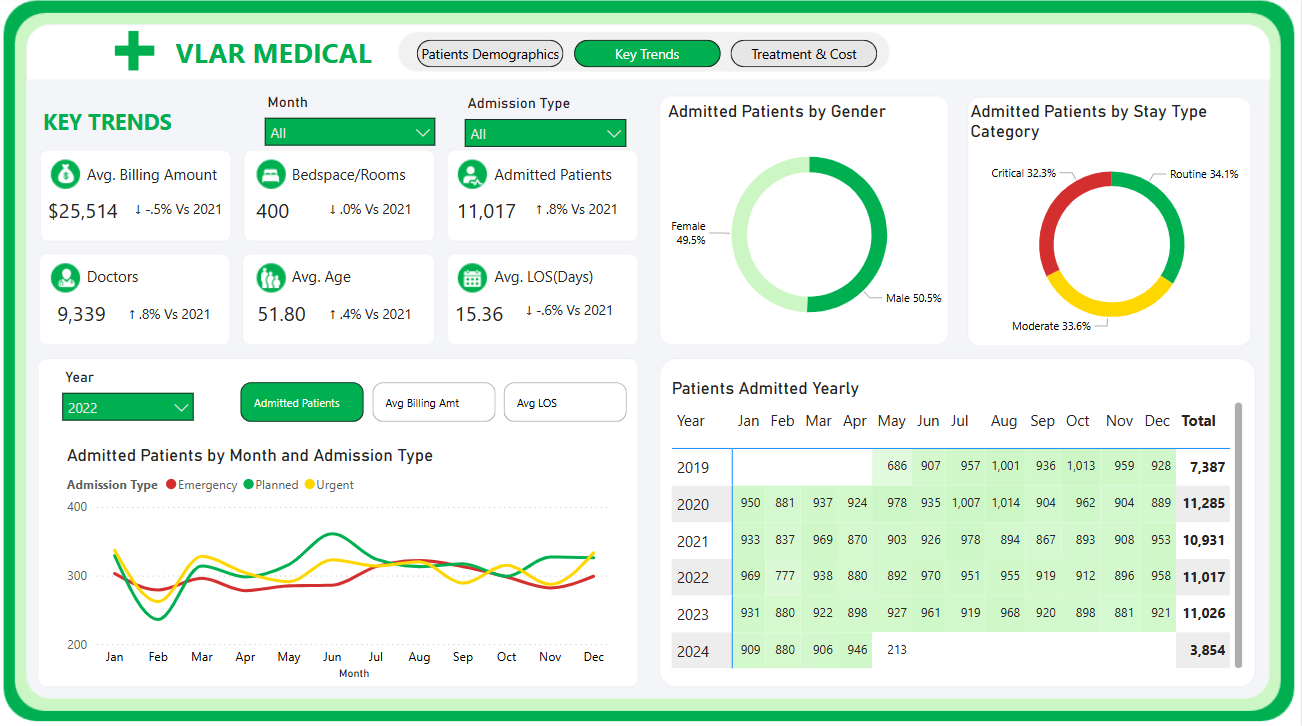

The page's visual inventory and layout, read from the dashboard file:
{"tool":"powerbi","page":{"name":"Key Trends","canvas":[1280,720],"ordinal":1},"visuals":[{"type":"card","fields":{"Values":["DAX.Admitted Patients"]},"box":[434.9,197.7,90.7,26.7],"z":0},{"type":"textbox","box":[482.7,159.3,135.8,30.9],"z":1000},{"type":"textbox","box":[283.7,260.5,122.1,30.2],"z":2000},{"type":"textbox","box":[82.6,260.5,131.4,30.2],"z":3000},{"type":"textbox","box":[284,159.3,132.1,30.9],"z":4000},{"type":"textbox","box":[82.6,159.3,150,30.2],"z":5000},{"type":"textbox","box":[482.6,260.5,140.7,30.2],"z":6000},{"type":"card","fields":{"Values":["DAX.Avg LOS"]},"box":[426.7,300,90.7,26.7],"z":7000},{"type":"card","fields":{"Values":["DAX.Rooms"]},"box":[224.4,197.7,90.7,26.7],"z":8000},{"type":"card","fields":{"Values":["DAX.Average Age"]},"box":[232.6,300,90.7,26.7],"z":9000},{"type":"card","fields":{"Values":["DAX.Doctors"]},"box":[37.2,300,90.7,26.7],"z":10000},{"type":"card","fields":{"Values":["DAX.Avg Billing Amt"]},"box":[8.1,197.7,150,26.7],"z":11000},{"type":"card","fields":{"Values":["DAX.Room YoY"]},"box":[315.1,195.3,101.2,32.6],"z":12000},{"type":"card","fields":{"Values":["DAX.LOS YoY"]},"box":[502.5,295.1,116,32.1],"z":13000},{"type":"card","fields":{"Values":["DAX.Age YoY"]},"box":[315.1,297.7,101.2,32.6],"z":14000},{"type":"card","fields":{"Values":["DAX.Doc YoY"]},"box":[112.8,297.7,111.6,32.6],"z":15000},{"type":"card","fields":{"Values":["DAX.Bill YoY"]},"box":[123.3,195.3,109.3,32.6],"z":16000},{"type":"card","fields":{"Values":["DAX.Adm YoY"]},"box":[517.4,195.3,101.2,32.6],"z":17000},{"type":"slicer","fields":{"Values":["Calendar.Year"]},"box":[53.1,360.5,149.4,63],"z":18000},{"type":"slicer","fields":{"Values":["Calendar.Month"]},"box":[251.5,90.8,187.7,63.8],"z":19000},{"type":"advancedSlicerVisual","fields":{"Values":["KPI.KPI"]},"box":[233.1,374.2,390.2,49.1],"z":20000},{"type":"lineChart","fields":{"Y":["DAX.Admitted Patients"],"Category":["Calendar.Month"],"Series":["Vlar Health.Admission Type"]},"box":[63,440.7,544.4,235.8],"z":21000},{"type":"donutChart","fields":{"Category":["Vlar Health.Gender"],"Y":["DAX.Admitted Patients"]},"box":[653.1,102.5,287.7,243.2],"z":22000},{"type":"donutChart","fields":{"Y":["DAX.Admitted Patients"],"Category":["Vlar Health.Stay Type Category"]},"box":[949.4,102.5,287.7,243.2],"z":23000},{"type":"pivotTable","title":"Patients Admitted Yearly","fields":{"Values":["DAX.Admitted Patients"],"Columns":["Calendar.Month"],"Rows":["Calendar.Year"]},"box":[656.4,374.2,570.6,290.8],"z":24000},{"type":"pageNavigator","box":[411.1,43.2,453.1,27.2],"z":25000},{"type":"slicer","fields":{"Values":["Vlar Health.Admission Type"]},"box":[447.9,92,179.1,63.8],"z":26000},{"type":"textbox","box":[39.3,103.1,193.9,42.9],"z":27000},{"type":"textbox","box":[169.3,31.9,227,58.9],"z":28000}]}

Visuals, with their boxes in screenshot pixels (x1, y1, x2, y2), scaled from the page's 1280x720 canvas onto the 1302x726 screenshot:
card - DAX.Admitted Patients: crop(442, 199, 535, 226)
textbox: crop(491, 161, 629, 192)
textbox: crop(289, 263, 413, 293)
textbox: crop(84, 263, 218, 293)
textbox: crop(289, 161, 423, 192)
textbox: crop(84, 161, 237, 191)
textbox: crop(491, 263, 634, 293)
card - DAX.Avg LOS: crop(434, 302, 526, 329)
card - DAX.Rooms: crop(228, 199, 321, 226)
card - DAX.Average Age: crop(237, 302, 329, 329)
card - DAX.Doctors: crop(38, 302, 130, 329)
card - DAX.Avg Billing Amt: crop(8, 199, 161, 226)
card - DAX.Room YoY: crop(321, 197, 423, 230)
card - DAX.LOS YoY: crop(511, 298, 629, 330)
card - DAX.Age YoY: crop(321, 300, 423, 333)
card - DAX.Doc YoY: crop(115, 300, 228, 333)
card - DAX.Bill YoY: crop(125, 197, 237, 230)
card - DAX.Adm YoY: crop(526, 197, 629, 230)
slicer - Calendar.Year: crop(54, 364, 206, 427)
slicer - Calendar.Month: crop(256, 92, 447, 156)
advancedSlicerVisual - KPI.KPI: crop(237, 377, 634, 427)
lineChart - DAX.Admitted Patients x Calendar.Month: crop(64, 444, 618, 682)
donutChart - Vlar Health.Gender x DAX.Admitted Patients: crop(664, 103, 957, 349)
donutChart - DAX.Admitted Patients x Vlar Health.Stay Type Category: crop(966, 103, 1258, 349)
"Patients Admitted Yearly" pivotTable: crop(668, 377, 1248, 671)
pageNavigator: crop(418, 44, 879, 71)
slicer - Vlar Health.Admission Type: crop(456, 93, 638, 157)
textbox: crop(40, 104, 237, 147)
textbox: crop(172, 32, 403, 92)
